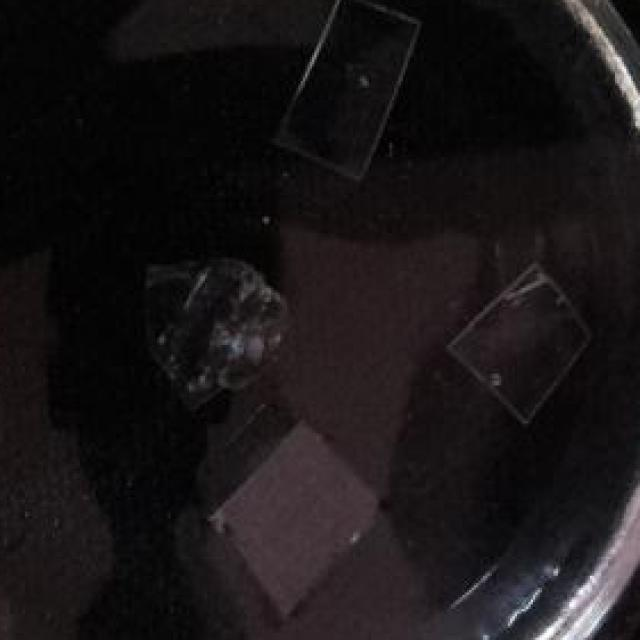Microplastic: (198, 412, 392, 628), (269, 0, 426, 207), (448, 245, 596, 443), (132, 248, 303, 410)
